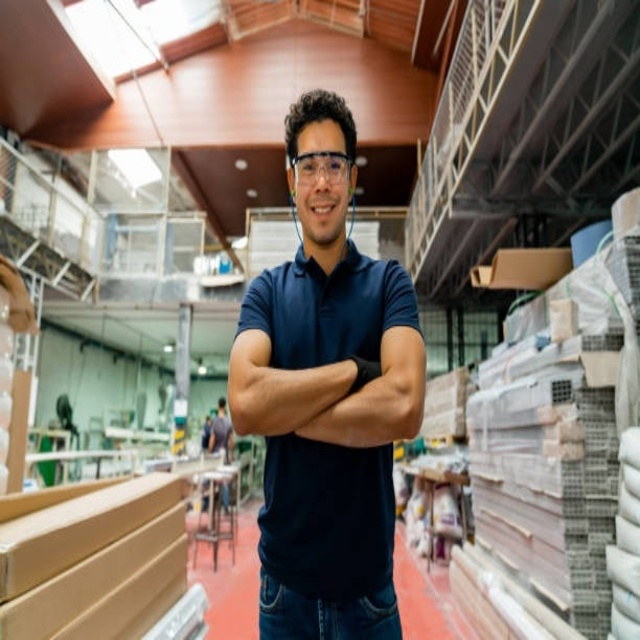Gafas: (292, 154, 353, 187)
Sin_mascara: (304, 196, 338, 231)
